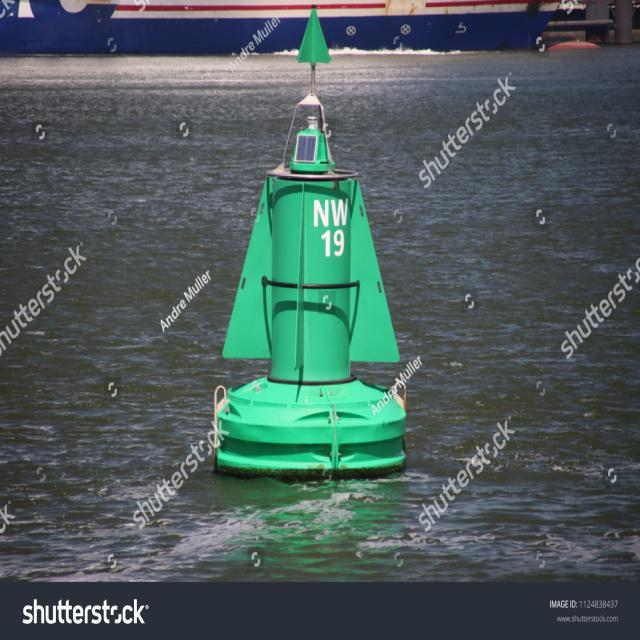marque: (180, 1, 415, 486)
